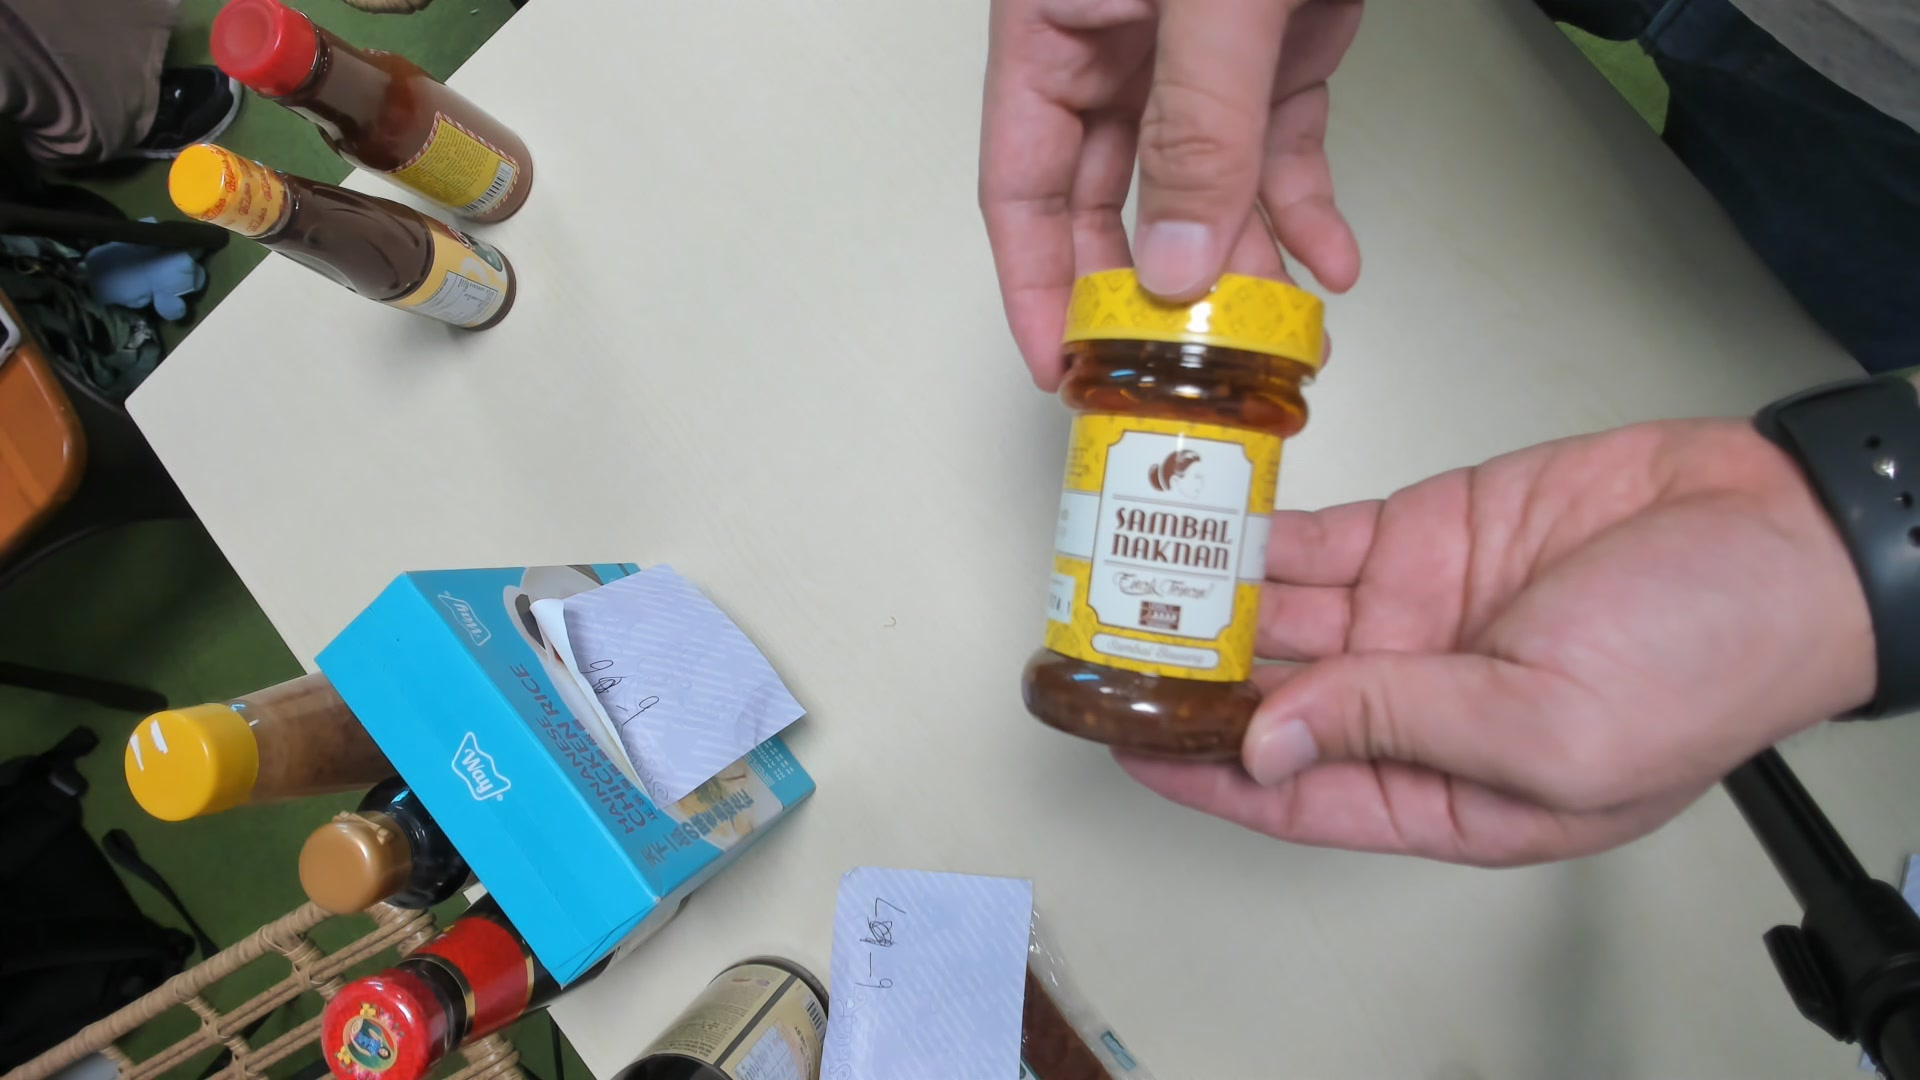KetchupChillSauce_100-199g_Halal_NonHealthy: (1021, 256, 1331, 762)
